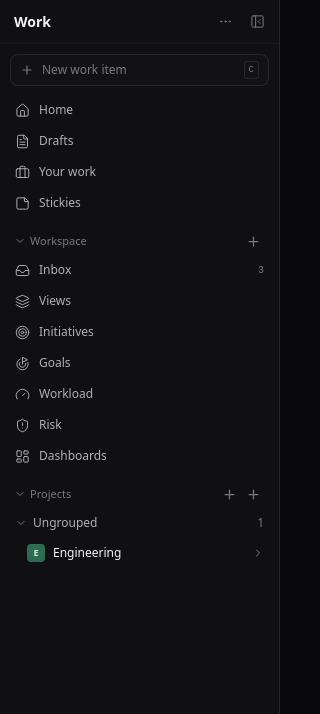
Test: projects section › toggles a project row open and closed
This screenshot has width=320, height=714.
Expected: the text "Work items" is not shown
Click the button with aria-label "expand engineering" at {"x": 146, "y": 553}, box 19,538 -> 272,568
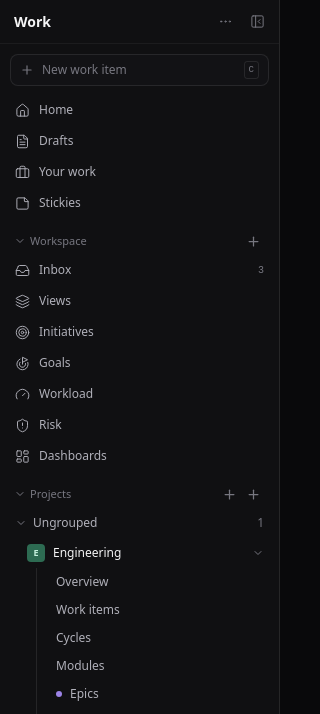
Now the link "Work items" is shown, box 56,601 -> 120,618
Click the button with aria-label "collapse engineering" at {"x": 146, "y": 553}, box 19,538 -> 272,568
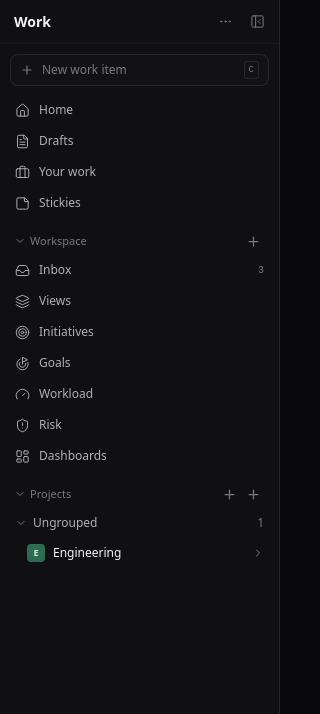
Now the link "Work items" is gone
